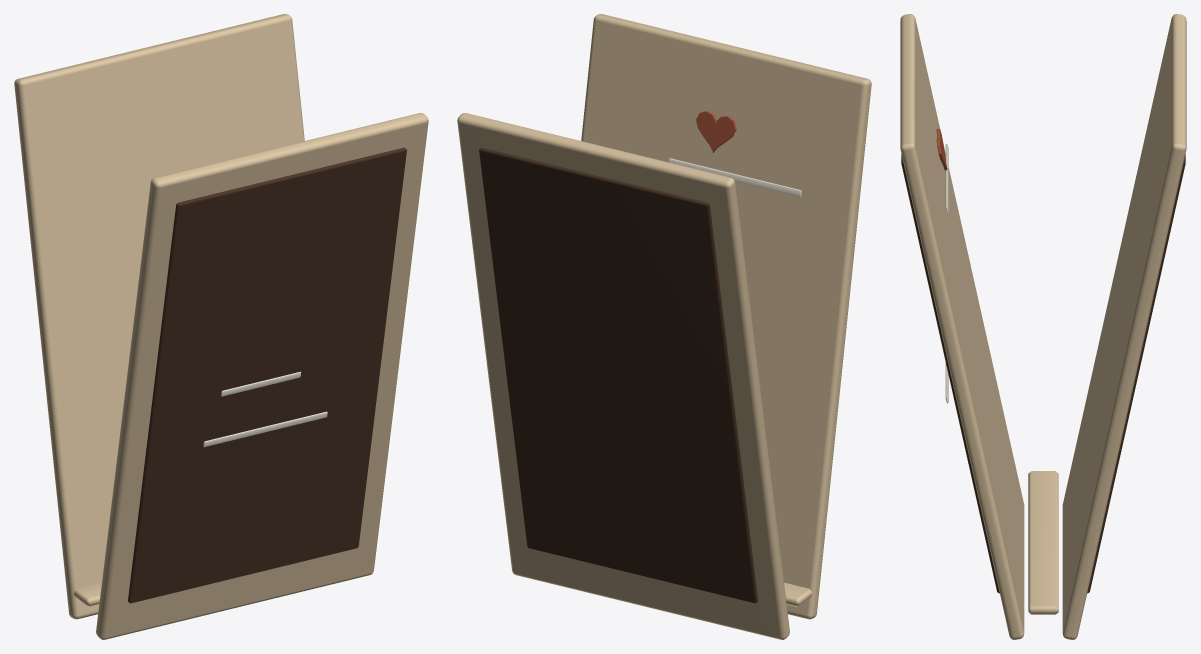
Rendered from chalkboard_aframe.glb.
3 renders of one model, left to right at view 1: azimuth 30°, elevation 25°; view 2: azimuth 150°, elevation 25°; view 3: azimuth 270°, elevation 25°, orthographic.
Parts seen in each view (by area): view 1: chalkboard_aframe; view 2: chalkboard_aframe; view 3: chalkboard_aframe.
Boxes of the visible parts, x1=… form: chalkboard_aframe: x1=14, y1=14, x2=428, y2=639; chalkboard_aframe: x1=457, y1=14, x2=871, y2=639; chalkboard_aframe: x1=900, y1=14, x2=1186, y2=639.
Size of the model in its own units: 0.64 by 1.08 by 0.564.
